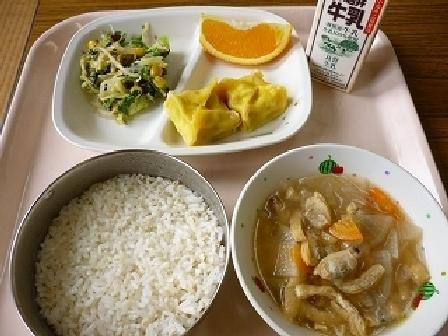Citrus: (196, 11, 297, 71)
Milk: (303, 0, 394, 88)
Rice: (16, 148, 236, 335)
Salad: (78, 25, 174, 117)
Soups: (230, 144, 446, 332)
manty: (171, 65, 293, 140)
